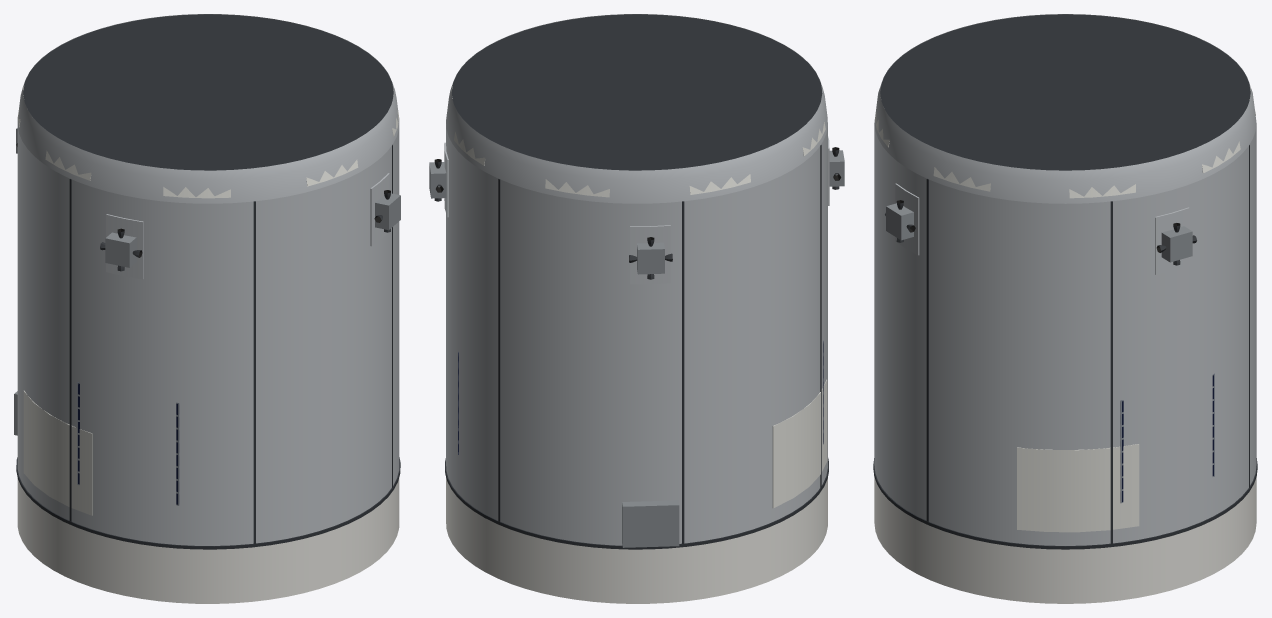
Rendered from apollo_sm.glb.
3 renders of one model, left to right at view 1: azimuth 30°, elevation 25°; view 2: azimuth 150°, elevation 25°; view 3: azimuth 270°, elevation 25°, orthographic.
Visible parts, largest first — view 1: body, slot_power; view 2: body; view 3: body, slot_power.
Part boxes in pixels (x1=…): body: x1=14, y1=14, x2=400, y2=603; slot_power: x1=77, y1=382, x2=179, y2=505; body: x1=429, y1=14, x2=844, y2=603; body: x1=873, y1=14, x2=1257, y2=603; slot_power: x1=1120, y1=373, x2=1214, y2=503.
Size of the model in its own units: 3.39 by 4.21 by 3.39.
11 materials, 1 textured.
